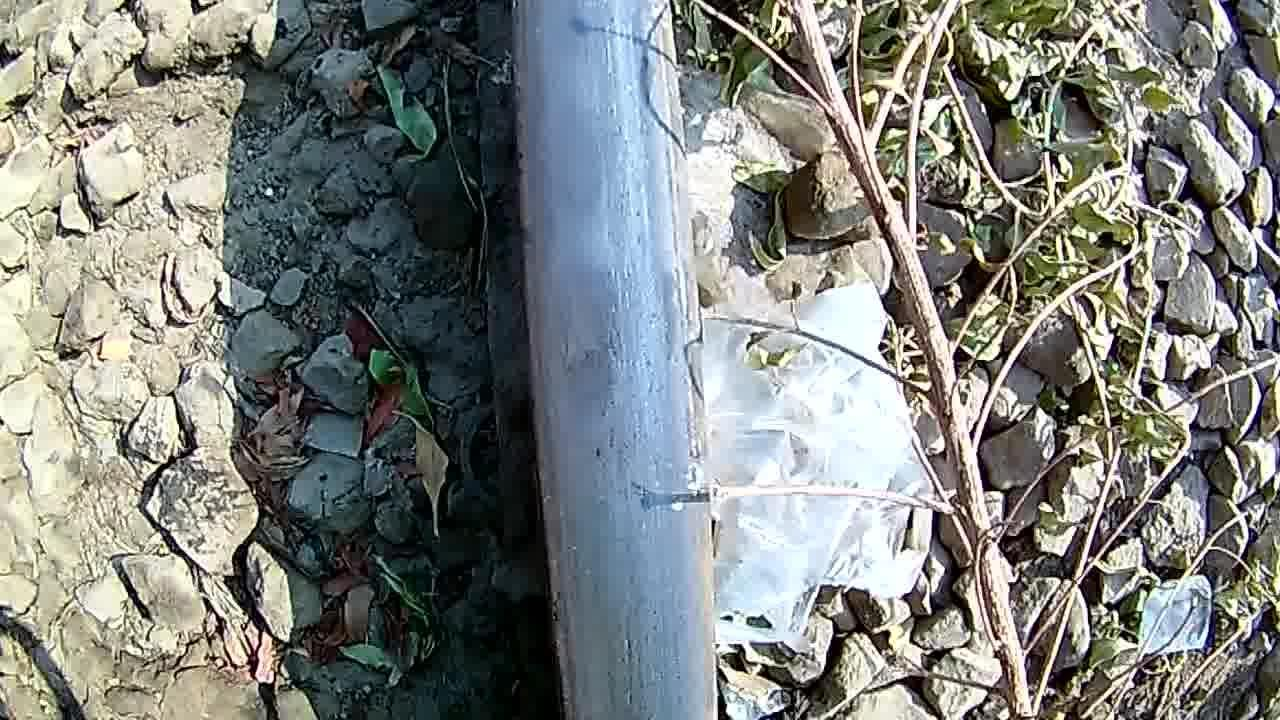crack: (514, 112, 694, 635)
